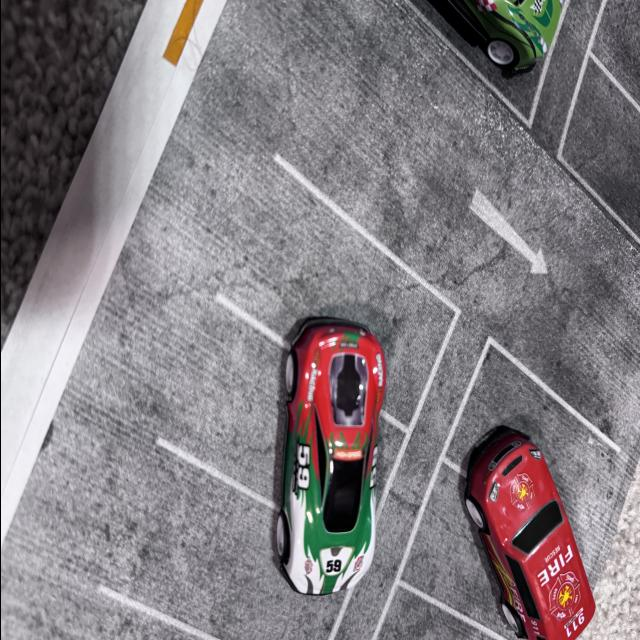car: (254, 290, 386, 620), (473, 417, 611, 631), (428, 0, 572, 126)
